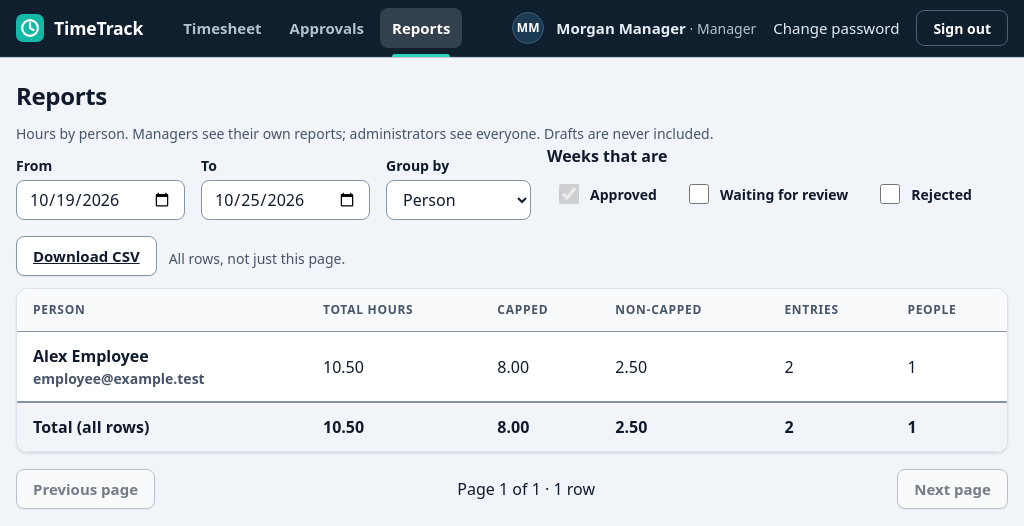
Scenario: hours report › always keeps at least one status ticked
Expected: the checkbox labelled "Approved" is disabled, 559,184 -> 579,204
Click the checkbox labelled "Waiting for review". click: {"x": 699, "y": 194}
box: 689,184 -> 709,204
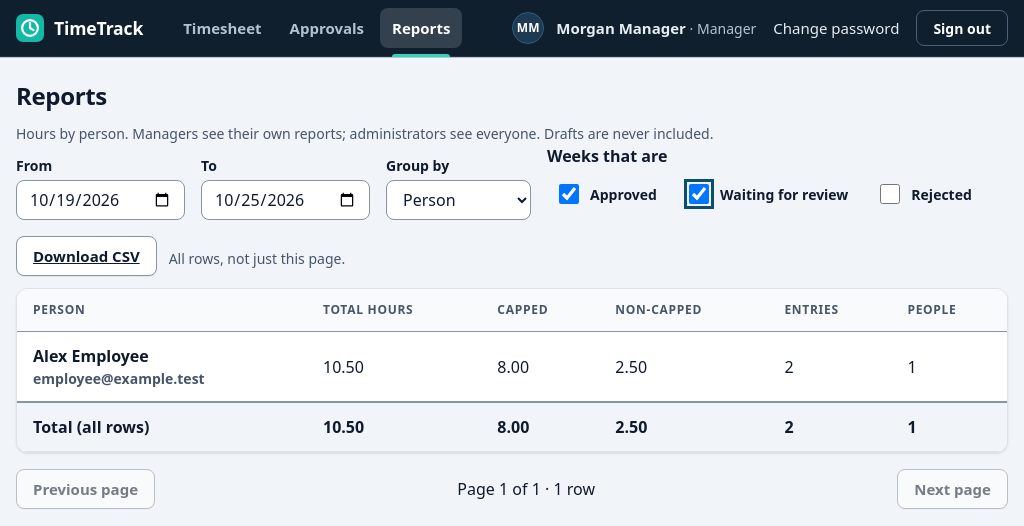
Result: the checkbox labelled "Approved" is enabled at 559,184 -> 579,204
